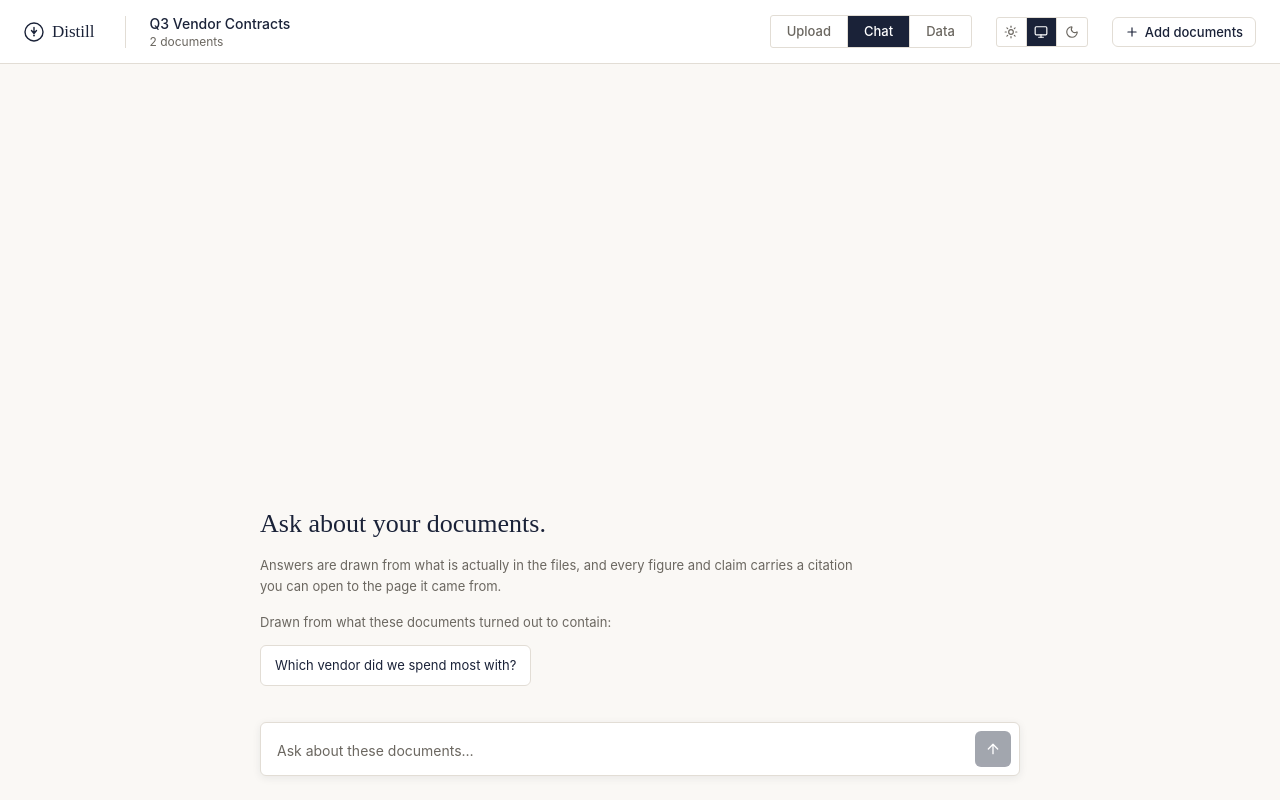
Test: ChatScreen › names what it read before any prose exists
Type "What's the total spend across all vendor contracts?" into the text box labelled "Ask about these documents…" at point(618, 750), box [269,734,967,767]
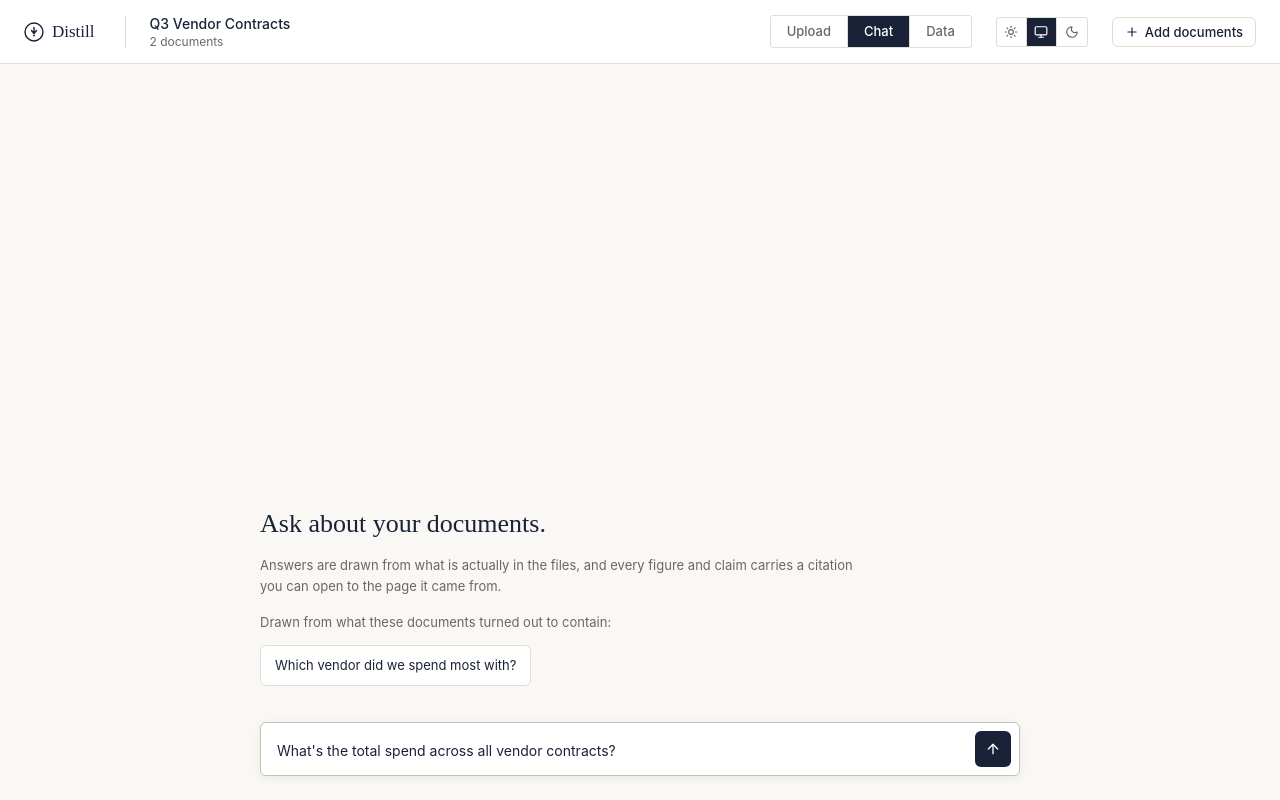
Click the button named "send question" at point(993, 749), box [975,731,1011,767]
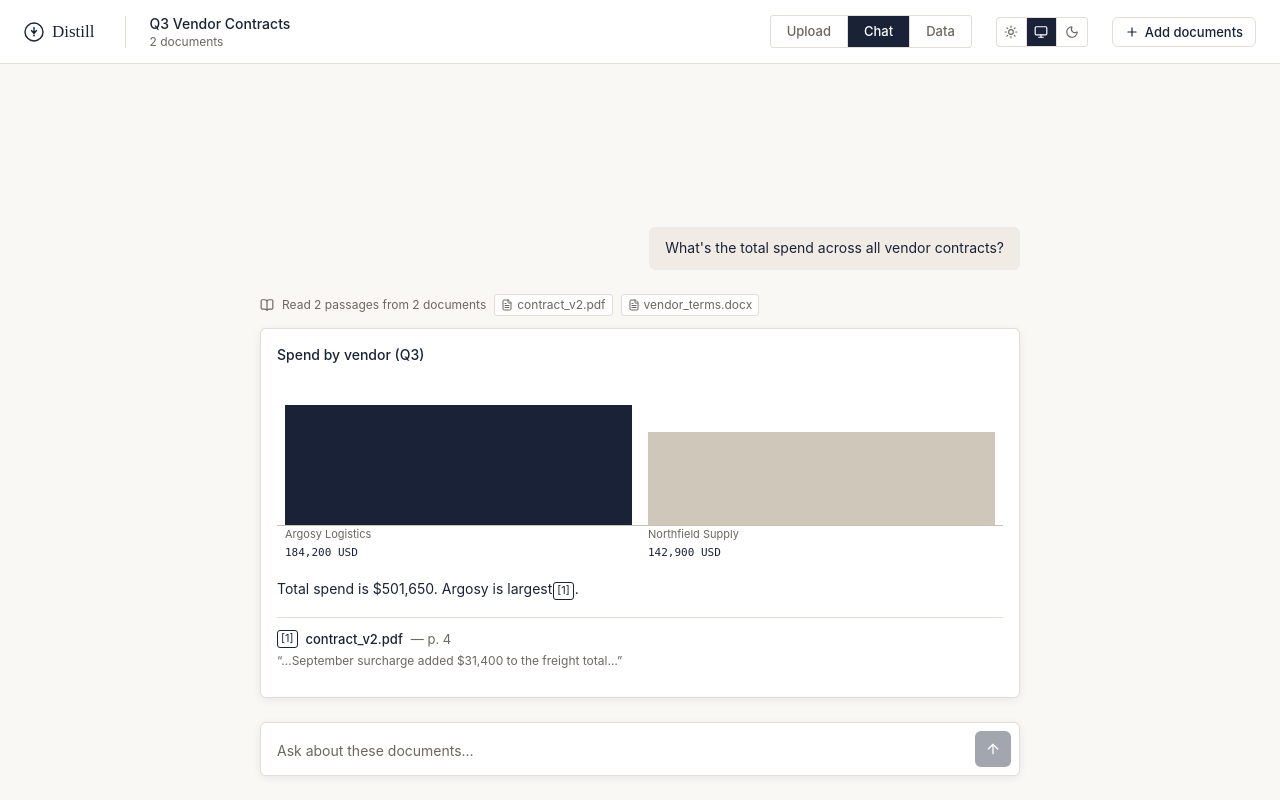
Check: the text "Read 2 passages from 2 documents" is shown, box [282,297,486,313]
Check: the text "contract_v2.pdf" next to "Read 2 passages from 2 documents" is shown, box [517,297,606,312]
